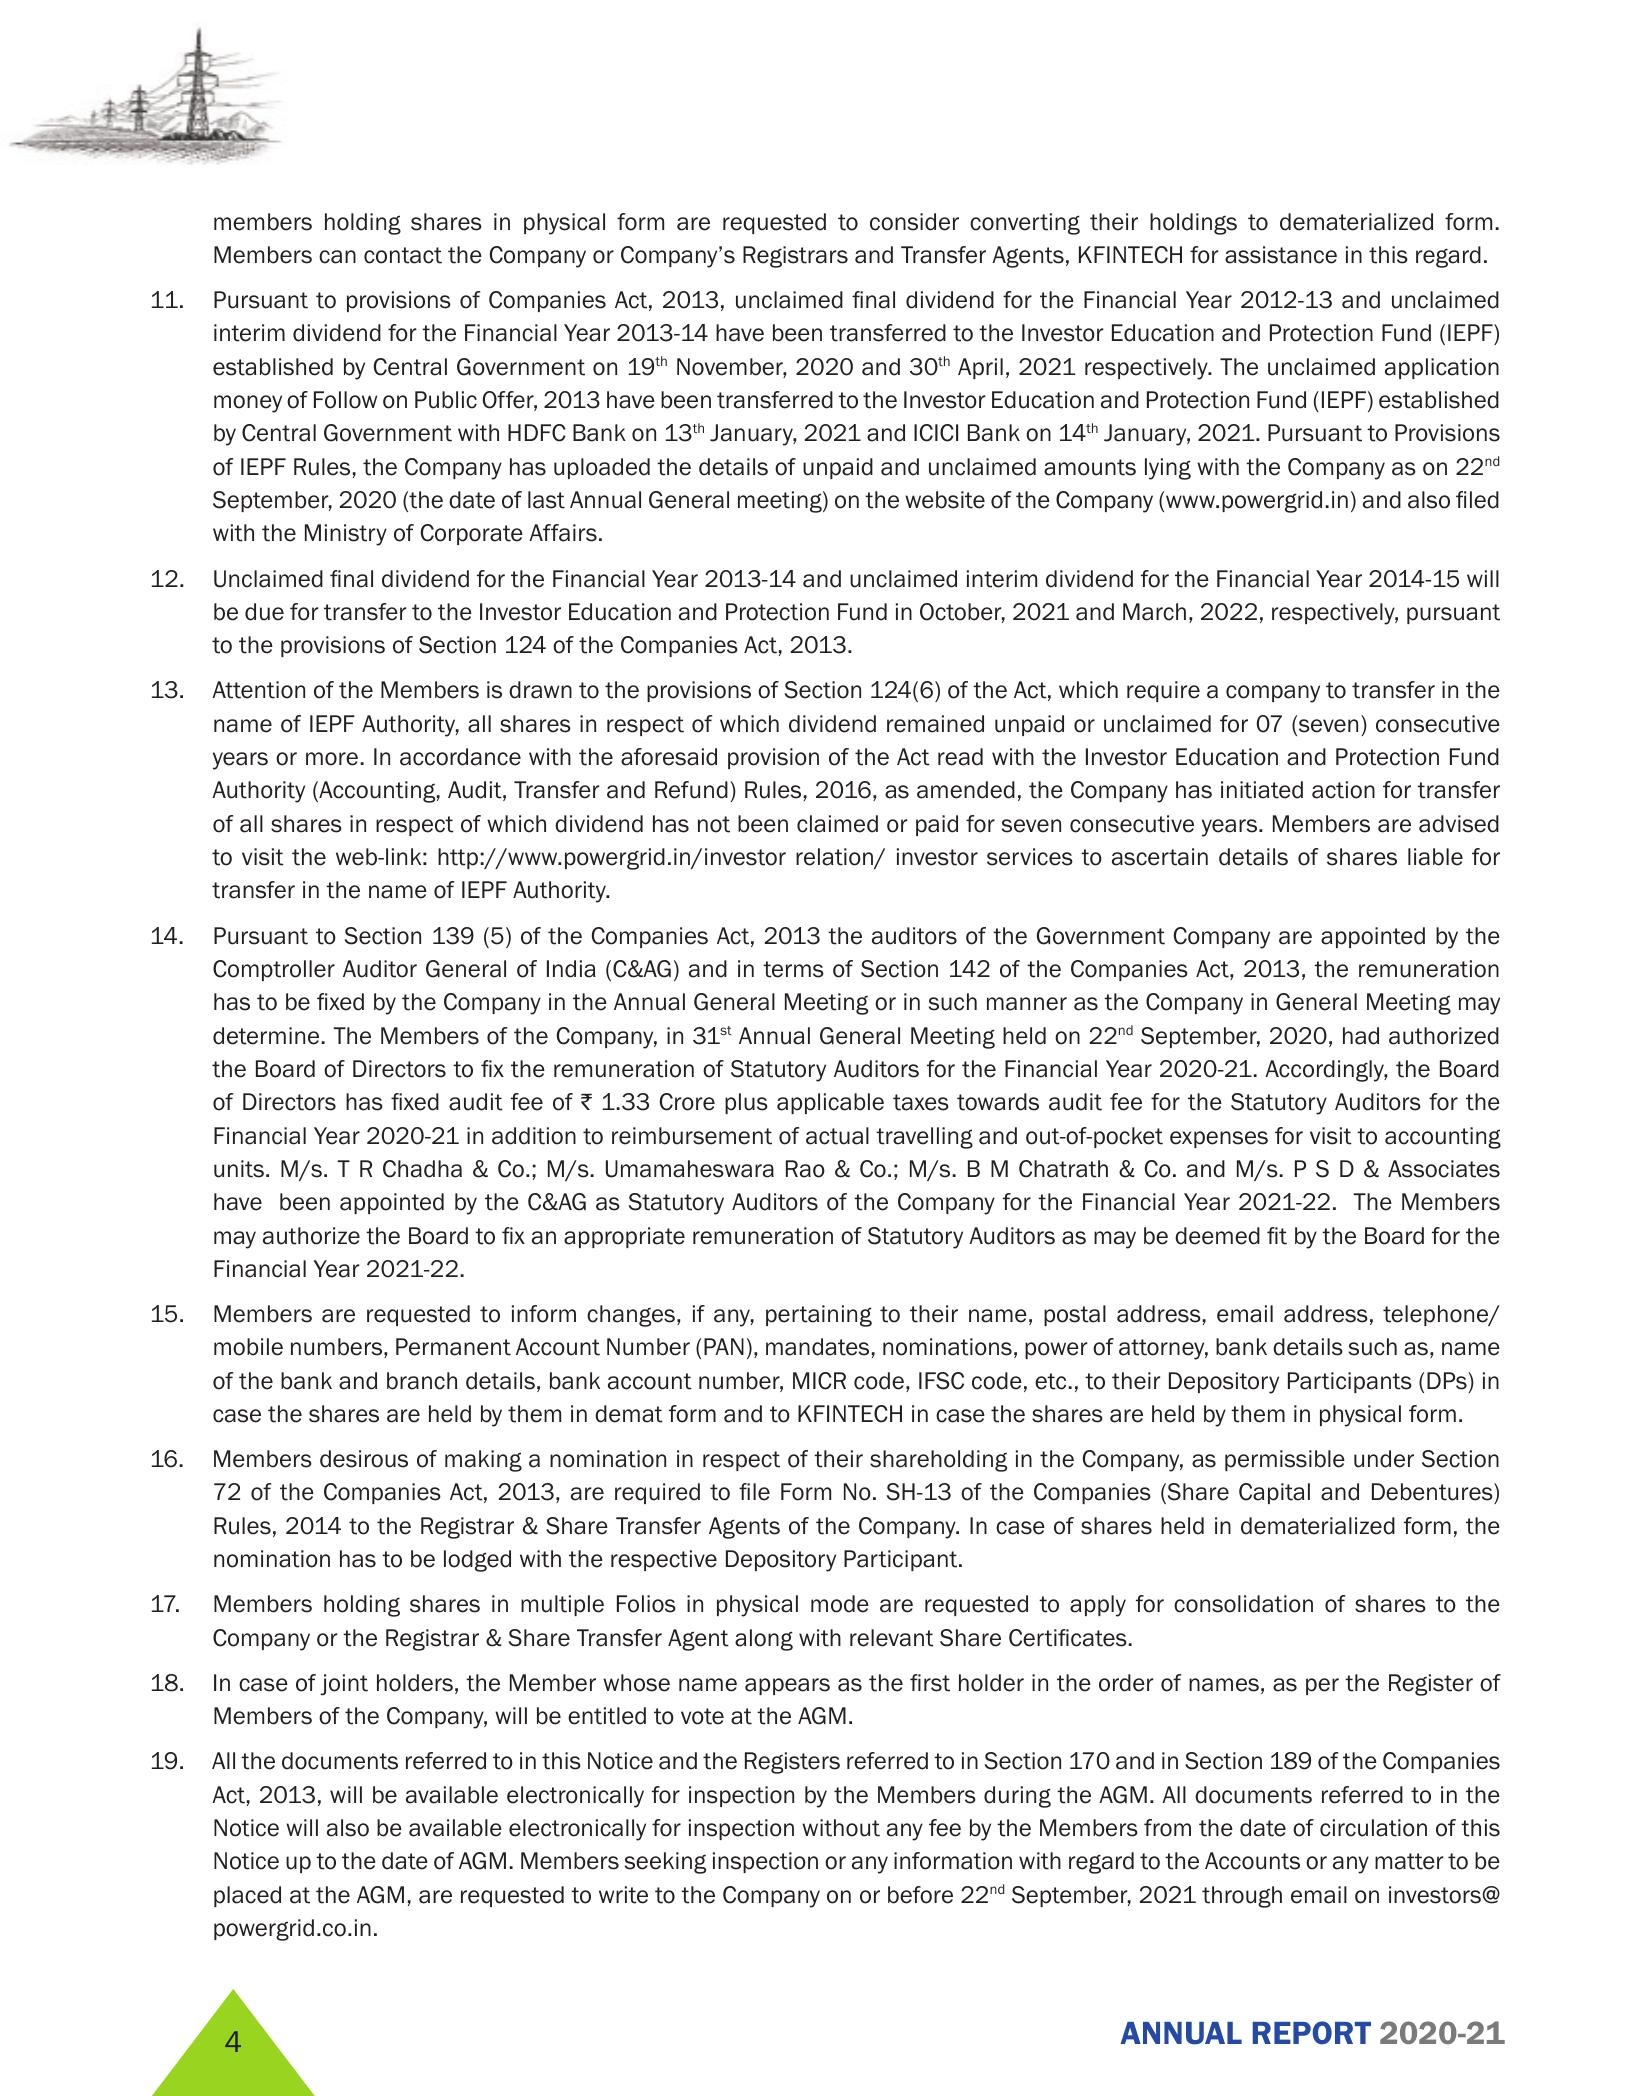Footer: (0, 1956, 1650, 2096)
Header: (0, 0, 1650, 189)
